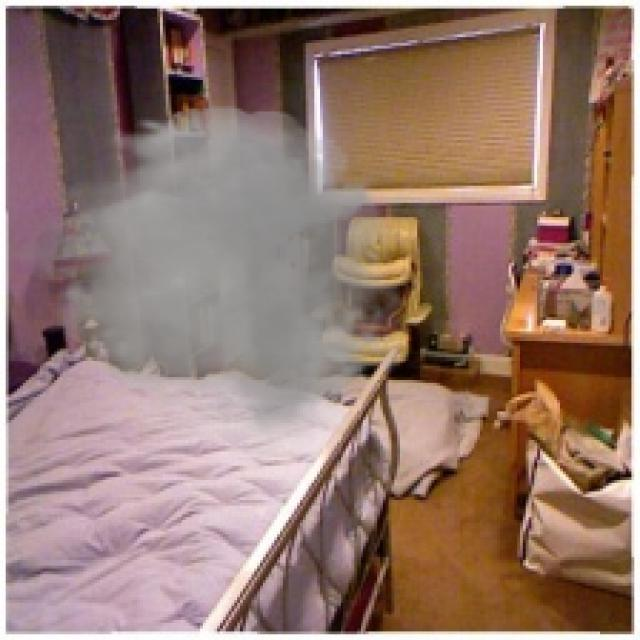Smoke: (6, 97, 423, 463)
